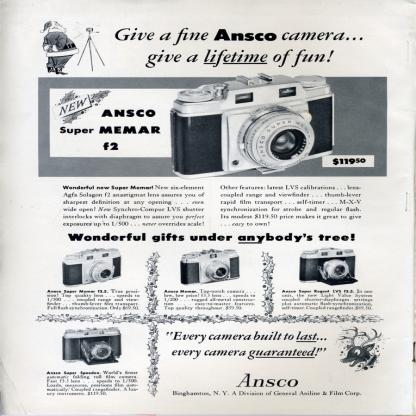Camera: (170, 75, 338, 183), (62, 248, 123, 289), (63, 329, 124, 369), (178, 251, 242, 286), (299, 249, 355, 289)
